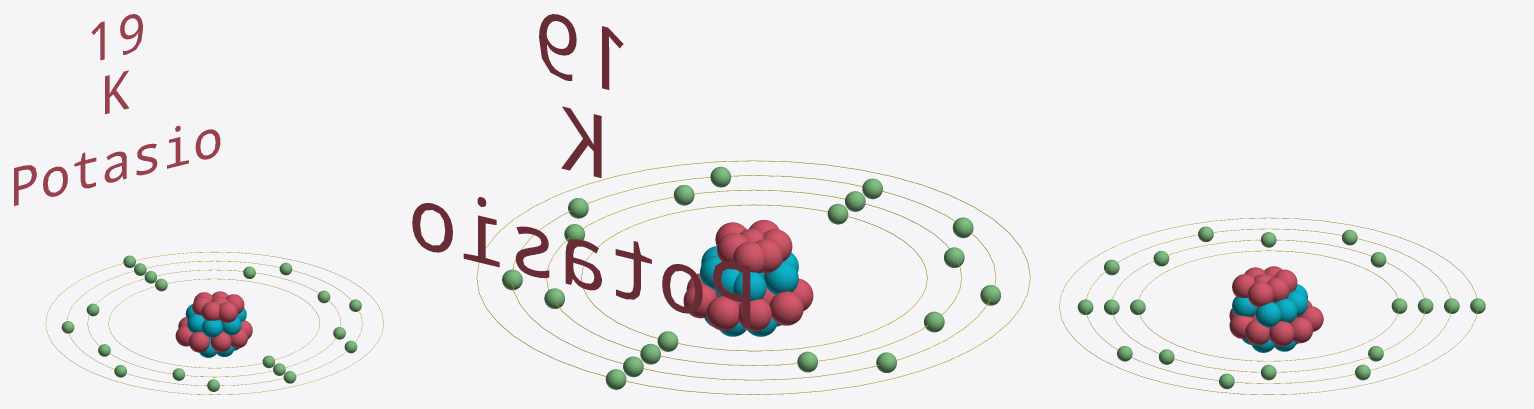
File: 19-POTASIO-ANDROID.glb
The picture shows the model from 3 angles, left to right: view 1: azimuth 30°, elevation 25°; view 2: azimuth 150°, elevation 25°; view 3: azimuth 270°, elevation 25°; orthographic projection. The views are drawn at different scales.
Visible parts, largest first — view 1: Mesh_Mesh_head_geo.001_lambert2SG.001; view 2: Mesh_Mesh_head_geo.001_lambert2SG.001; view 3: Mesh_Mesh_head_geo.001_lambert2SG.001.
Part boxes in pixels (box(x1,y1,x2,y2)): Mesh_Mesh_head_geo.001_lambert2SG.001: box(14, 14, 383, 394); Mesh_Mesh_head_geo.001_lambert2SG.001: box(412, 14, 1030, 394); Mesh_Mesh_head_geo.001_lambert2SG.001: box(1059, 217, 1485, 394).
Bounding box in the file's own units: 160 × 135 × 176.
